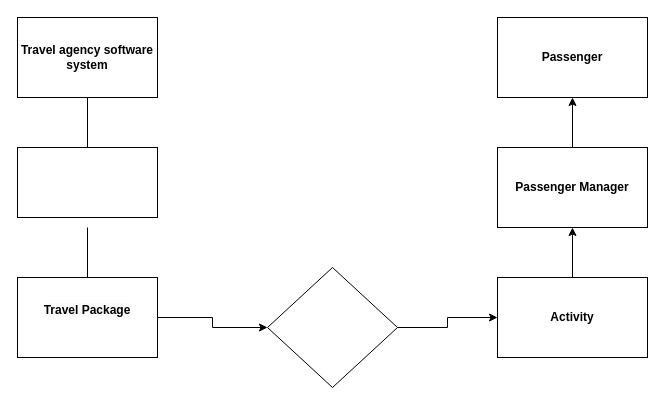
Some shapes in this 665 by 405 pixel diagram are drawn without their labels. Each missing label, with the centre of its shape:
"Destination" belongs at point (332, 327).
"Travel Package Manager" belongs at point (87, 182).
